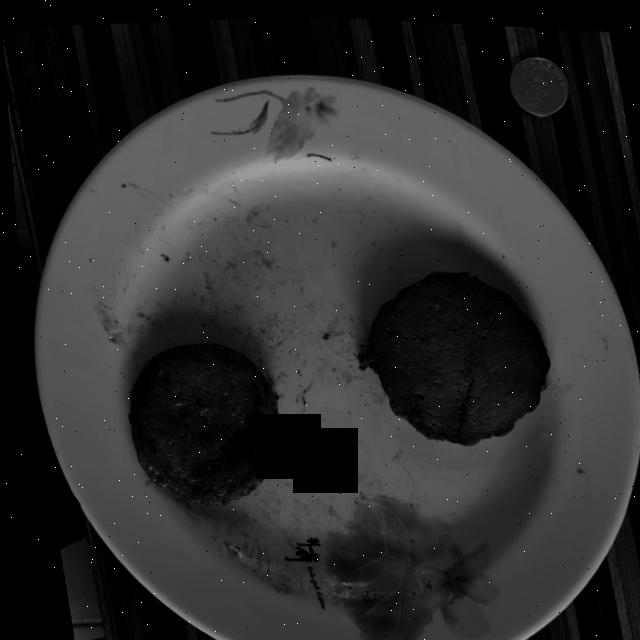Spam: (353, 267, 544, 441)
coin: (507, 51, 568, 110)
fish cake: (122, 341, 272, 501)
